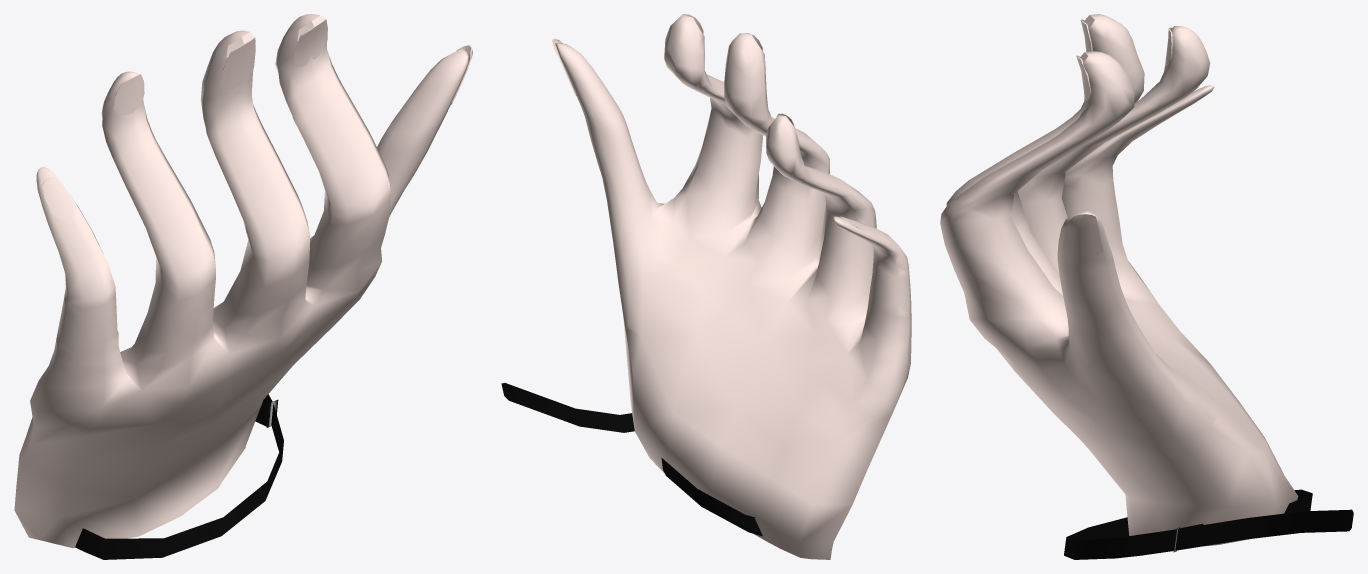
File: IkuyoFretHand.obj
3 renders of one model, left to right at view 1: azimuth 30°, elevation 25°; view 2: azimuth 150°, elevation 25°; view 3: azimuth 270°, elevation 25°, orthographic. The views are drawn at different scales.
Bounding box in the file's own units: 0.1545 × 0.1833 × 0.1162.
Materials: 2 (2 with a texture image).
